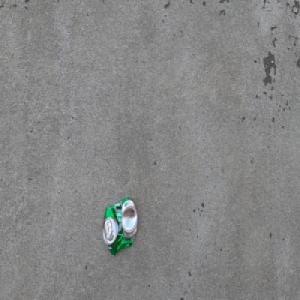SodaCan: (101, 196, 138, 256)
